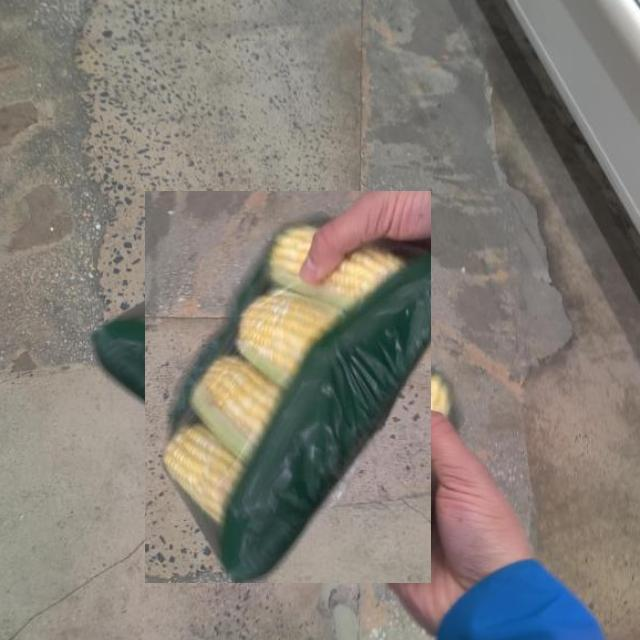Corn: (145, 191, 431, 583)
